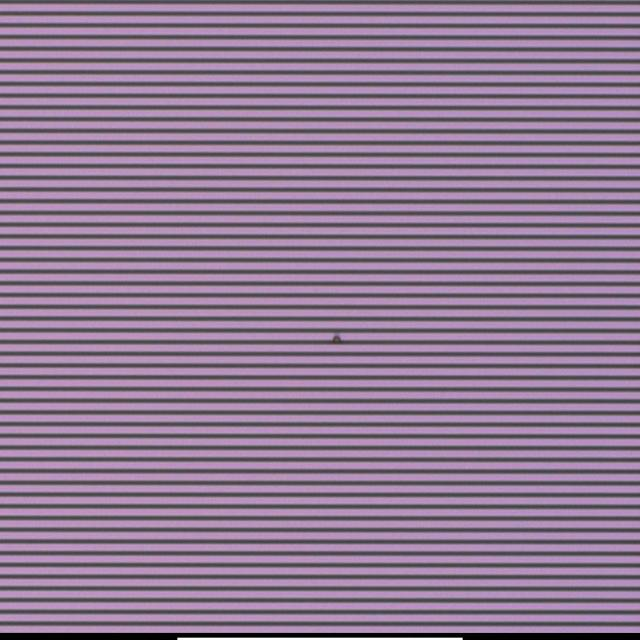03_intrusion: (332, 328, 343, 350)
